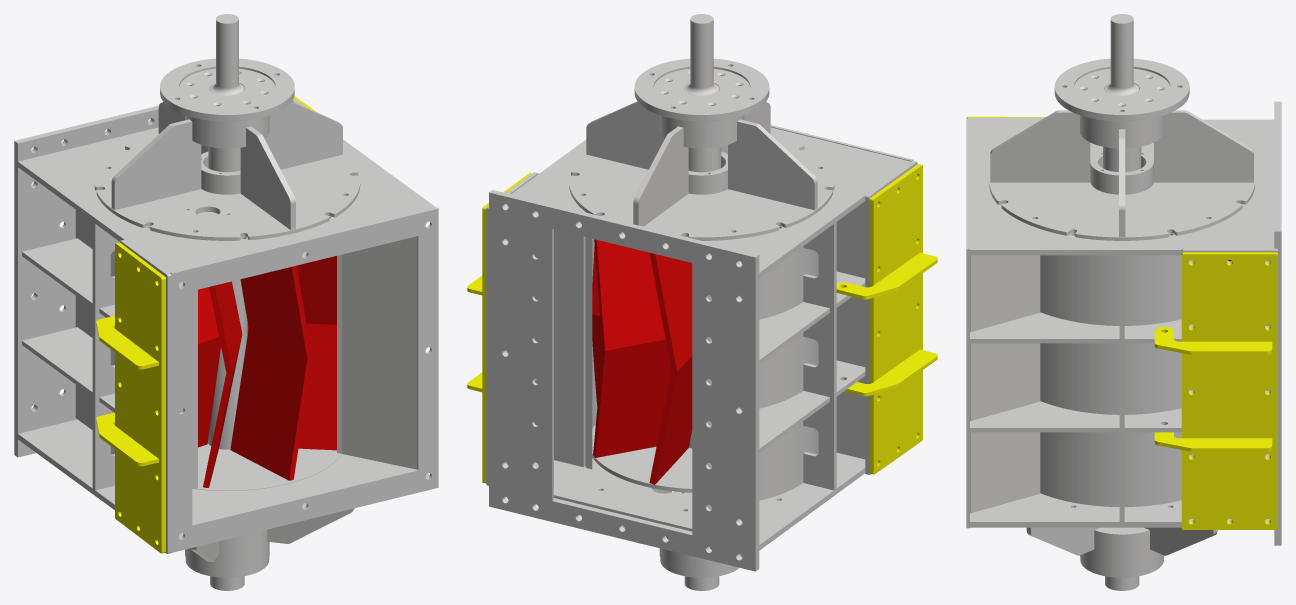
The model's file is Rotativa.glb.
The picture shows the model from 3 angles, left to right: view 1: azimuth 30°, elevation 25°; view 2: azimuth 150°, elevation 25°; view 3: azimuth 270°, elevation 25°; orthographic projection.
Visible parts, largest first — view 1: Node1, Node3, Node2; view 2: Node1, Node3, Node2; view 3: Node1, Node2.
Boxes of the visible parts, left/top/right/bottom form: Node1: left=14, top=14, right=438, bottom=590; Node3: left=198, top=256, right=336, bottom=487; Node2: left=96, top=96, right=316, bottom=553; Node1: left=486, top=14, right=917, bottom=590; Node3: left=592, top=239, right=692, bottom=484; Node2: left=467, top=164, right=937, bottom=483; Node1: left=966, top=14, right=1281, bottom=590; Node2: left=967, top=116, right=1277, bottom=529.
Size of the model in its own units: 55.8 by 92.64 by 46.88.
